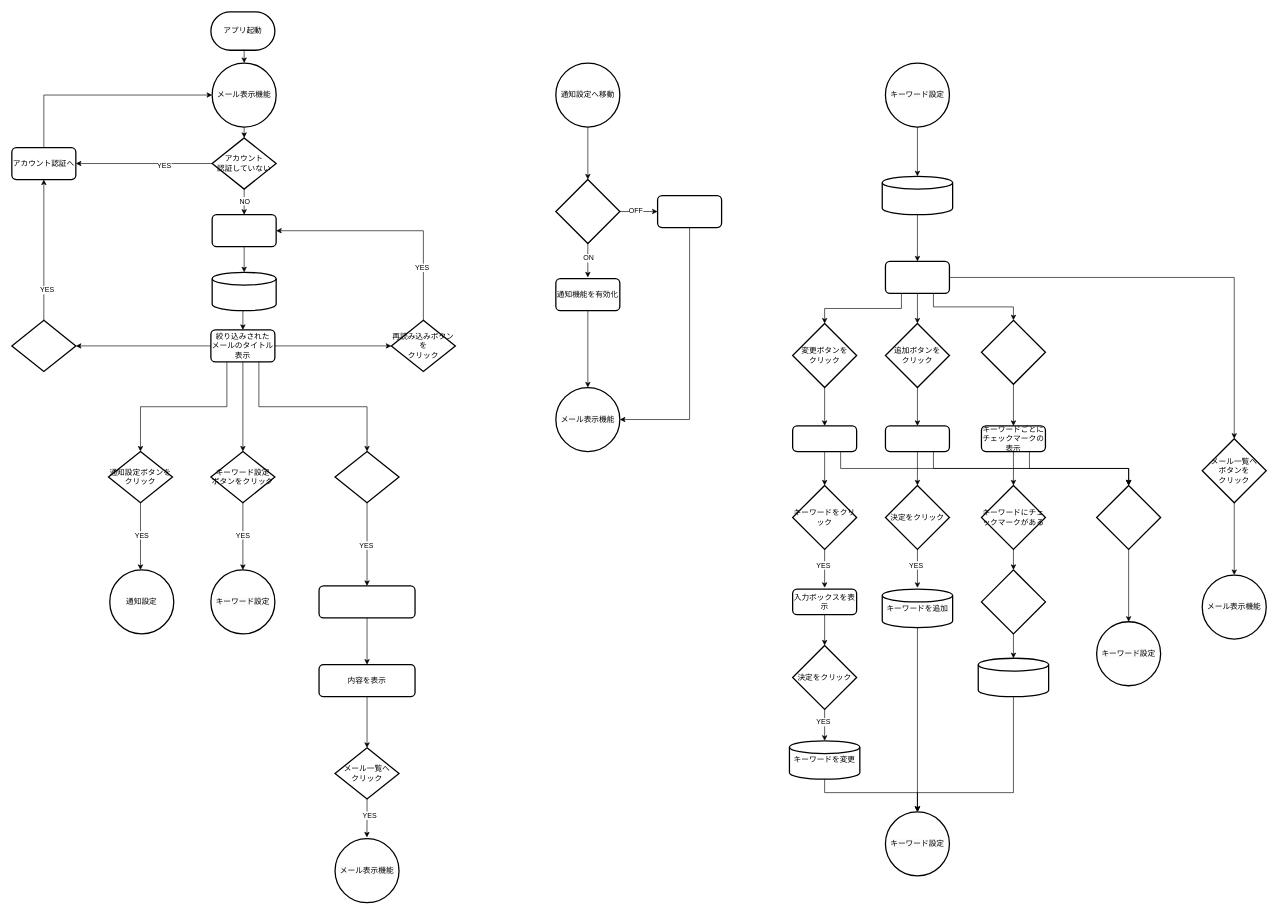
The diagram is 1277 pixels wide and 914 high, and some of its shapes have lost their labels. The shapes that lost their labels are listed below. From the top down, each one's box as (x1, y1, x2, y2) in pixels, then its label:
(555, 179, 620, 244): 通知機能有効 ONOFF ボタン
(657, 195, 722, 228): 通知機能を無効化
(881, 175, 953, 215): キーワードに アクセス
(211, 214, 276, 247): メールタイトルの 取得
(211, 271, 276, 311): キーワードの 取得
(884, 260, 950, 294): 現在のキーワードを表示
(11, 319, 76, 372): アカウント変更 ボタンを クリック
(980, 319, 1046, 385): 削除ボタンを クリック
(792, 425, 857, 452): 変更モード中を表示
(884, 425, 950, 452): キーワード入力画面を表示
(334, 451, 399, 503): メールのタイトルをクリック
(1096, 484, 1161, 550): キャンセルボタンをクリック
(318, 585, 415, 618): 該当メールのタイトルから 内容を取得
(980, 569, 1046, 634): 決定ボタンを クリック
(977, 657, 1049, 697): キーワードを削除
